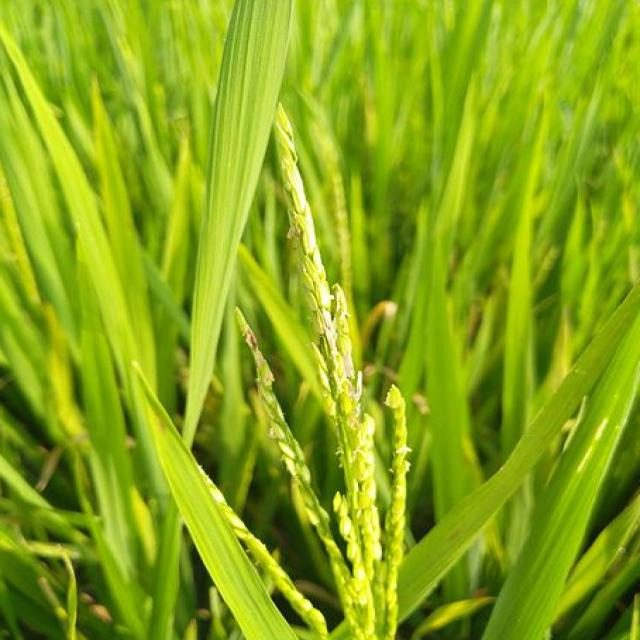Panicle Blight: (306, 247, 337, 357), (347, 352, 362, 398), (248, 330, 258, 349)
